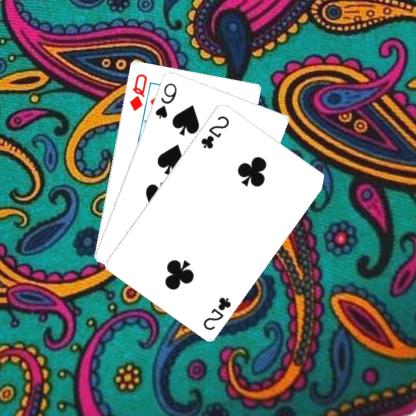2C: (198, 112, 231, 150), (200, 294, 233, 331)
9S: (152, 80, 178, 120)
QD: (126, 71, 148, 112)
